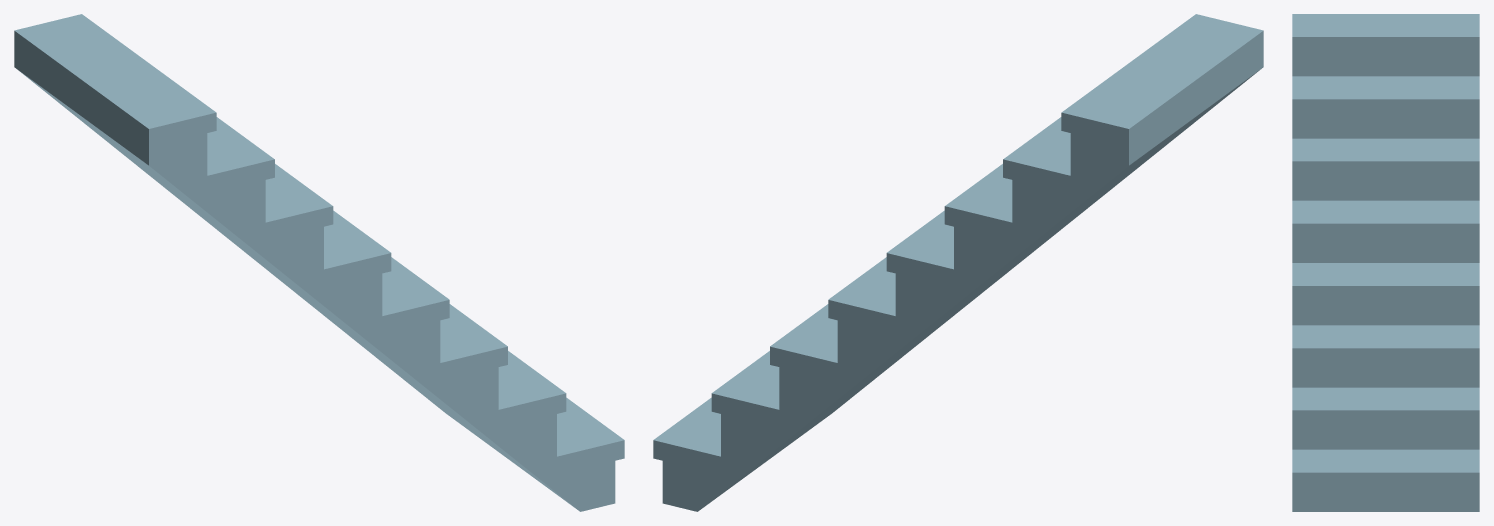
The model's file is stairsStone.dae.
3 views of the same model, side by side, from view 1: azimuth 30°, elevation 25°; view 2: azimuth 150°, elevation 25°; view 3: azimuth 270°, elevation 25° (orthographic). The views are drawn at different scales.
Parts seen in each view (by area): view 1: stairsStone; view 2: stairsStone; view 3: stairsStone.
Boxes of the visible parts, x1,y1,x2,y2 form: stairsStone: (14,14,624,511); stairsStone: (653,14,1263,511); stairsStone: (1292,14,1479,511).
Bounding box in the file's own units: 1.02 × 1 × 0.5.
